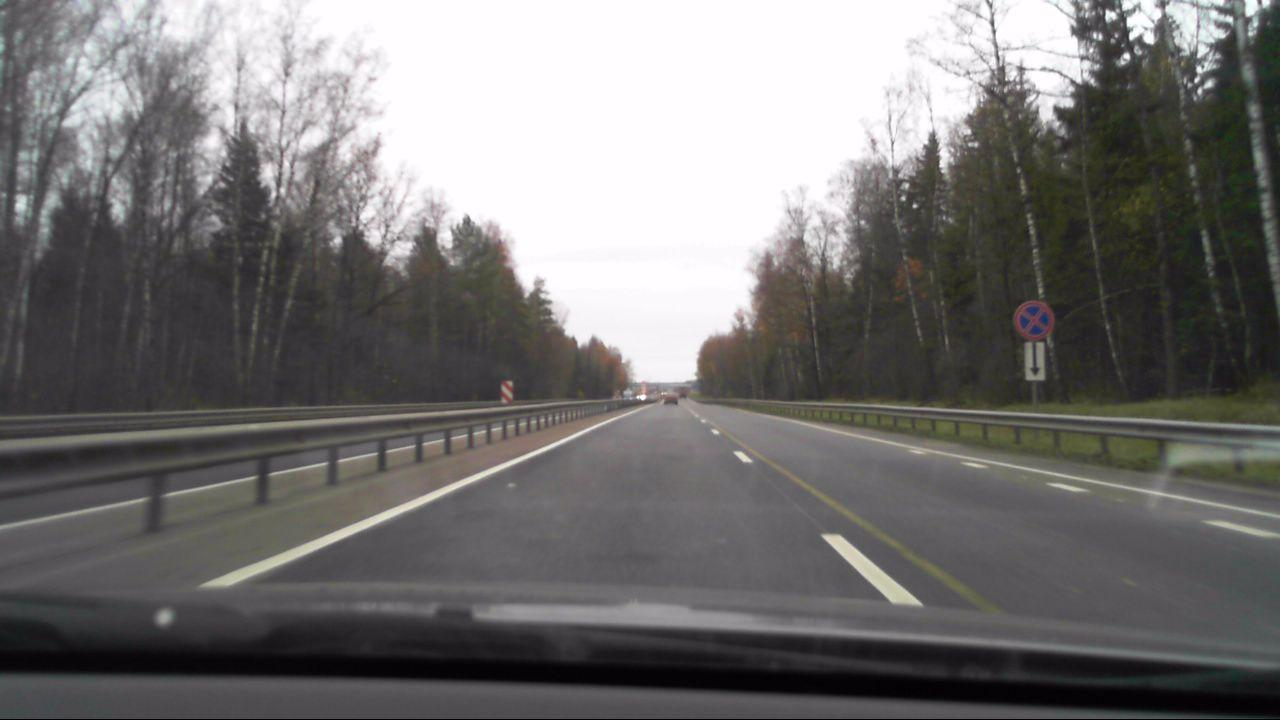3_27: (1014, 299, 1056, 339)
8_22_1: (500, 376, 517, 404)
8_2_3: (1022, 340, 1049, 385)
